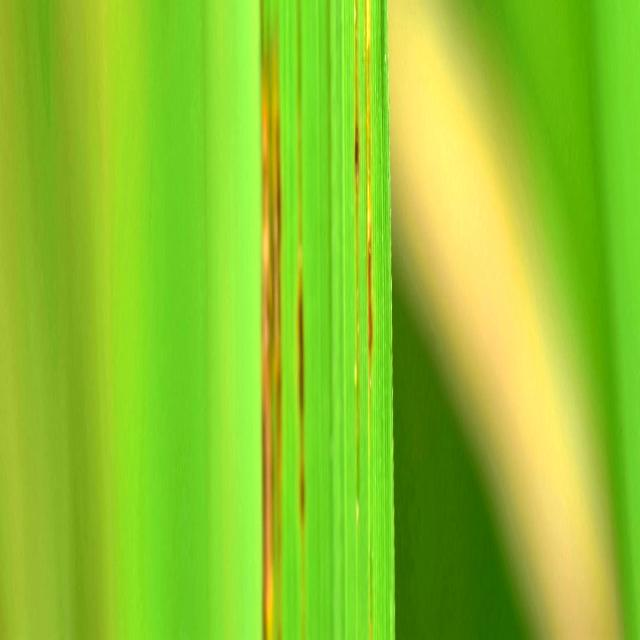BLS: (260, 0, 282, 638), (296, 0, 307, 638), (365, 0, 373, 421), (354, 0, 360, 515), (381, 0, 384, 198)
